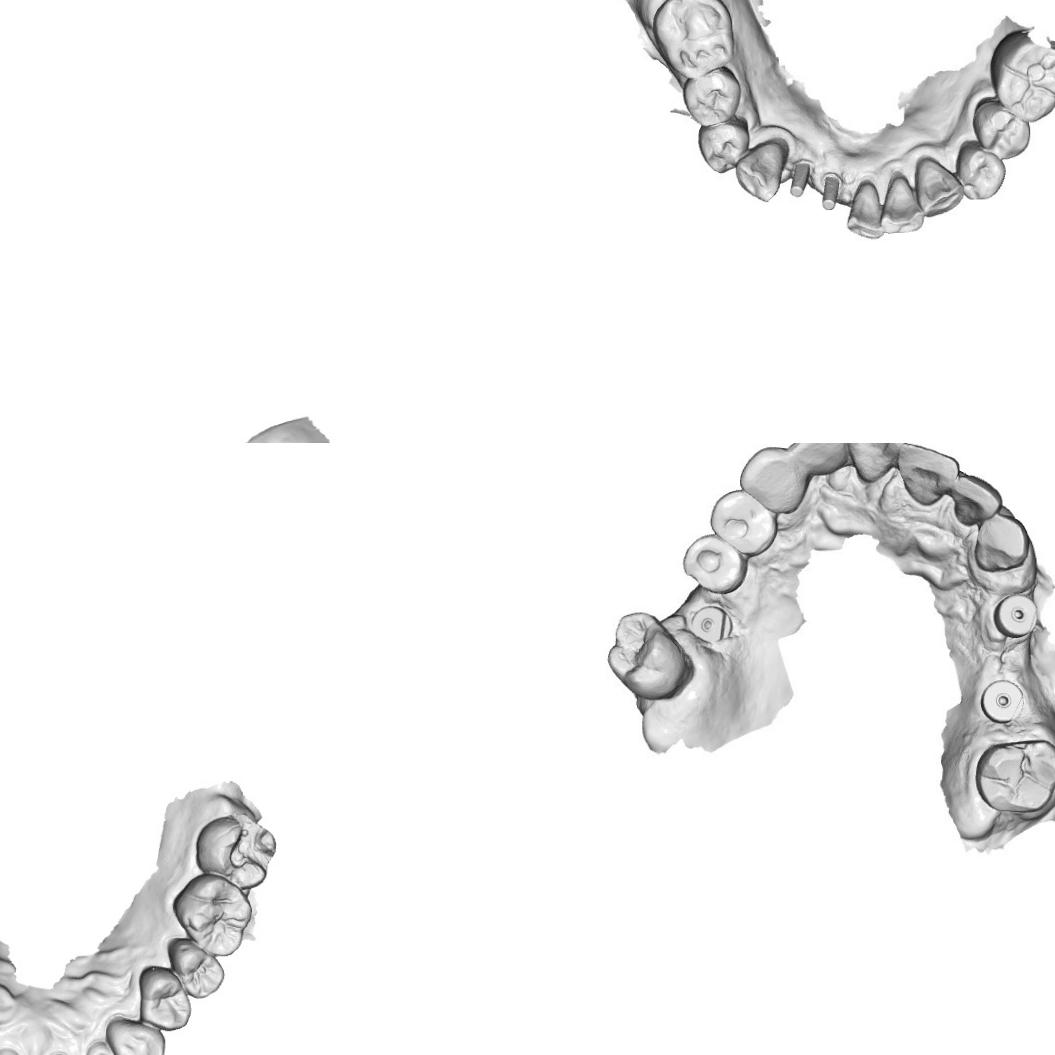abutment: (818, 170, 844, 216), (786, 157, 813, 201)
canine: (737, 447, 805, 517), (970, 512, 1030, 578), (732, 137, 787, 202), (912, 156, 967, 220), (104, 1014, 167, 1055)
implant: (979, 674, 1028, 728), (994, 590, 1042, 637), (688, 604, 734, 650)
incisor: (898, 446, 958, 504), (883, 170, 924, 238), (952, 475, 1002, 526), (846, 179, 882, 244), (848, 443, 902, 478), (797, 443, 850, 473), (80, 1038, 130, 1055)
molar: (602, 608, 694, 706), (649, 0, 738, 81), (172, 870, 253, 958), (972, 735, 1055, 820), (194, 810, 280, 892), (986, 29, 1055, 122)
premolar: (164, 936, 226, 1000), (680, 532, 744, 594), (136, 964, 192, 1032), (684, 66, 744, 129), (970, 98, 1031, 159), (713, 494, 776, 551), (696, 119, 754, 177), (953, 142, 1003, 206)
